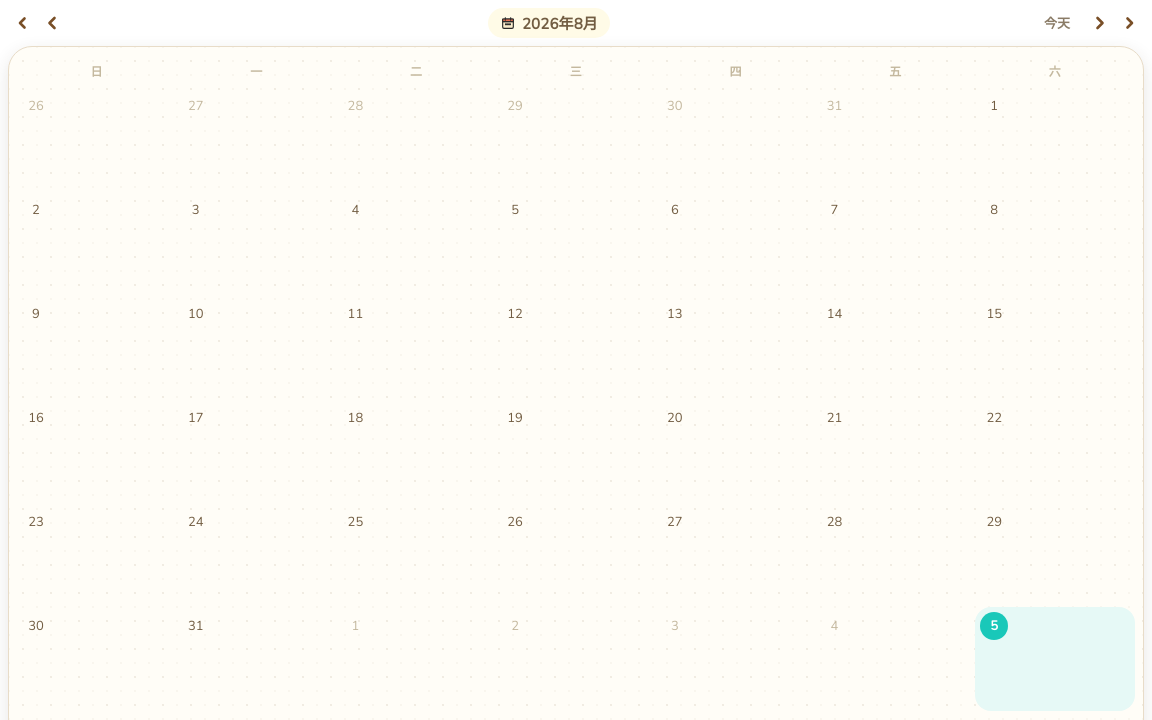
Calendar › keyboard › 非受控面板下点上下月补位格：面板跟过去，选中态与光标都落在那一格
Click the 1st cell "28".
click(355, 106)  # box x1=336 y1=87 x2=496 y2=191
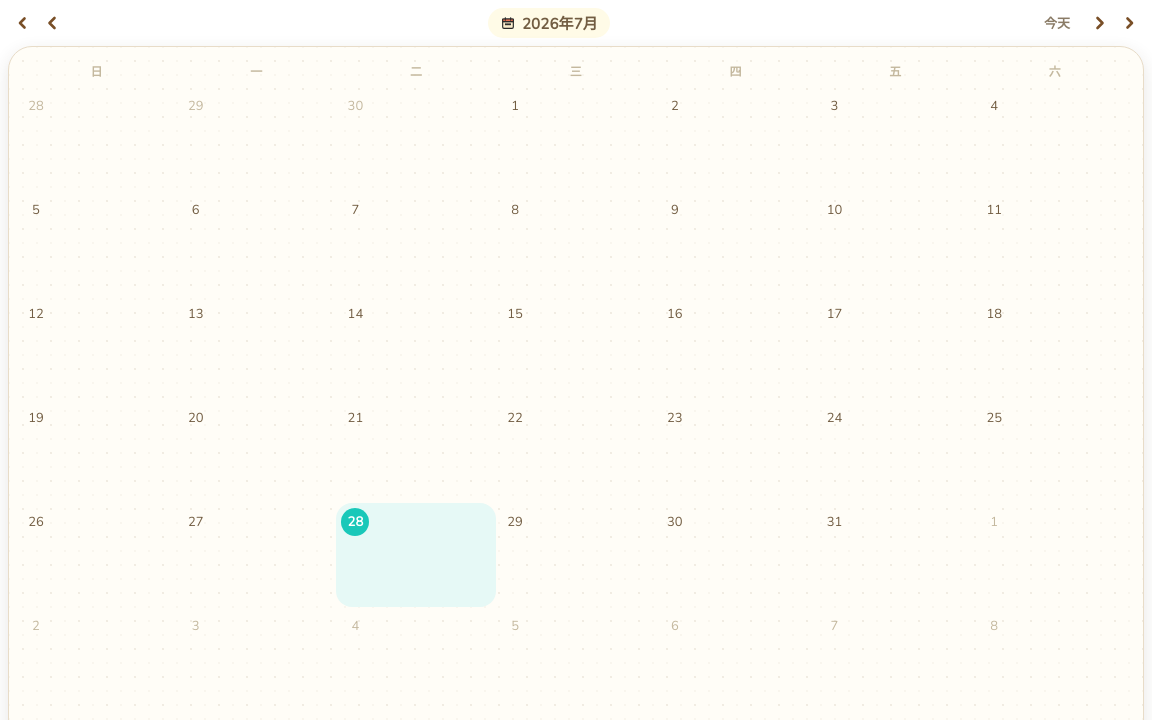
expect the element with class "animal-calendar__month-label" reads "2026年7月": met, box x1=522 y1=14 x2=598 y2=34
